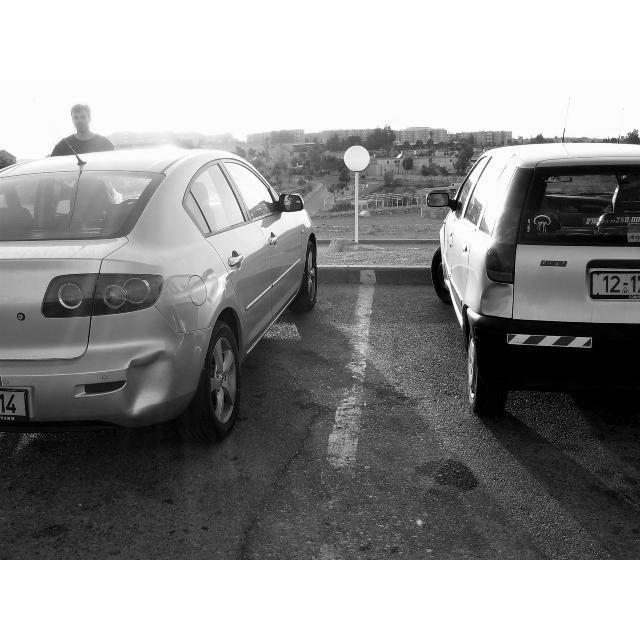rear-bumper-dent: (57, 331, 203, 432)
